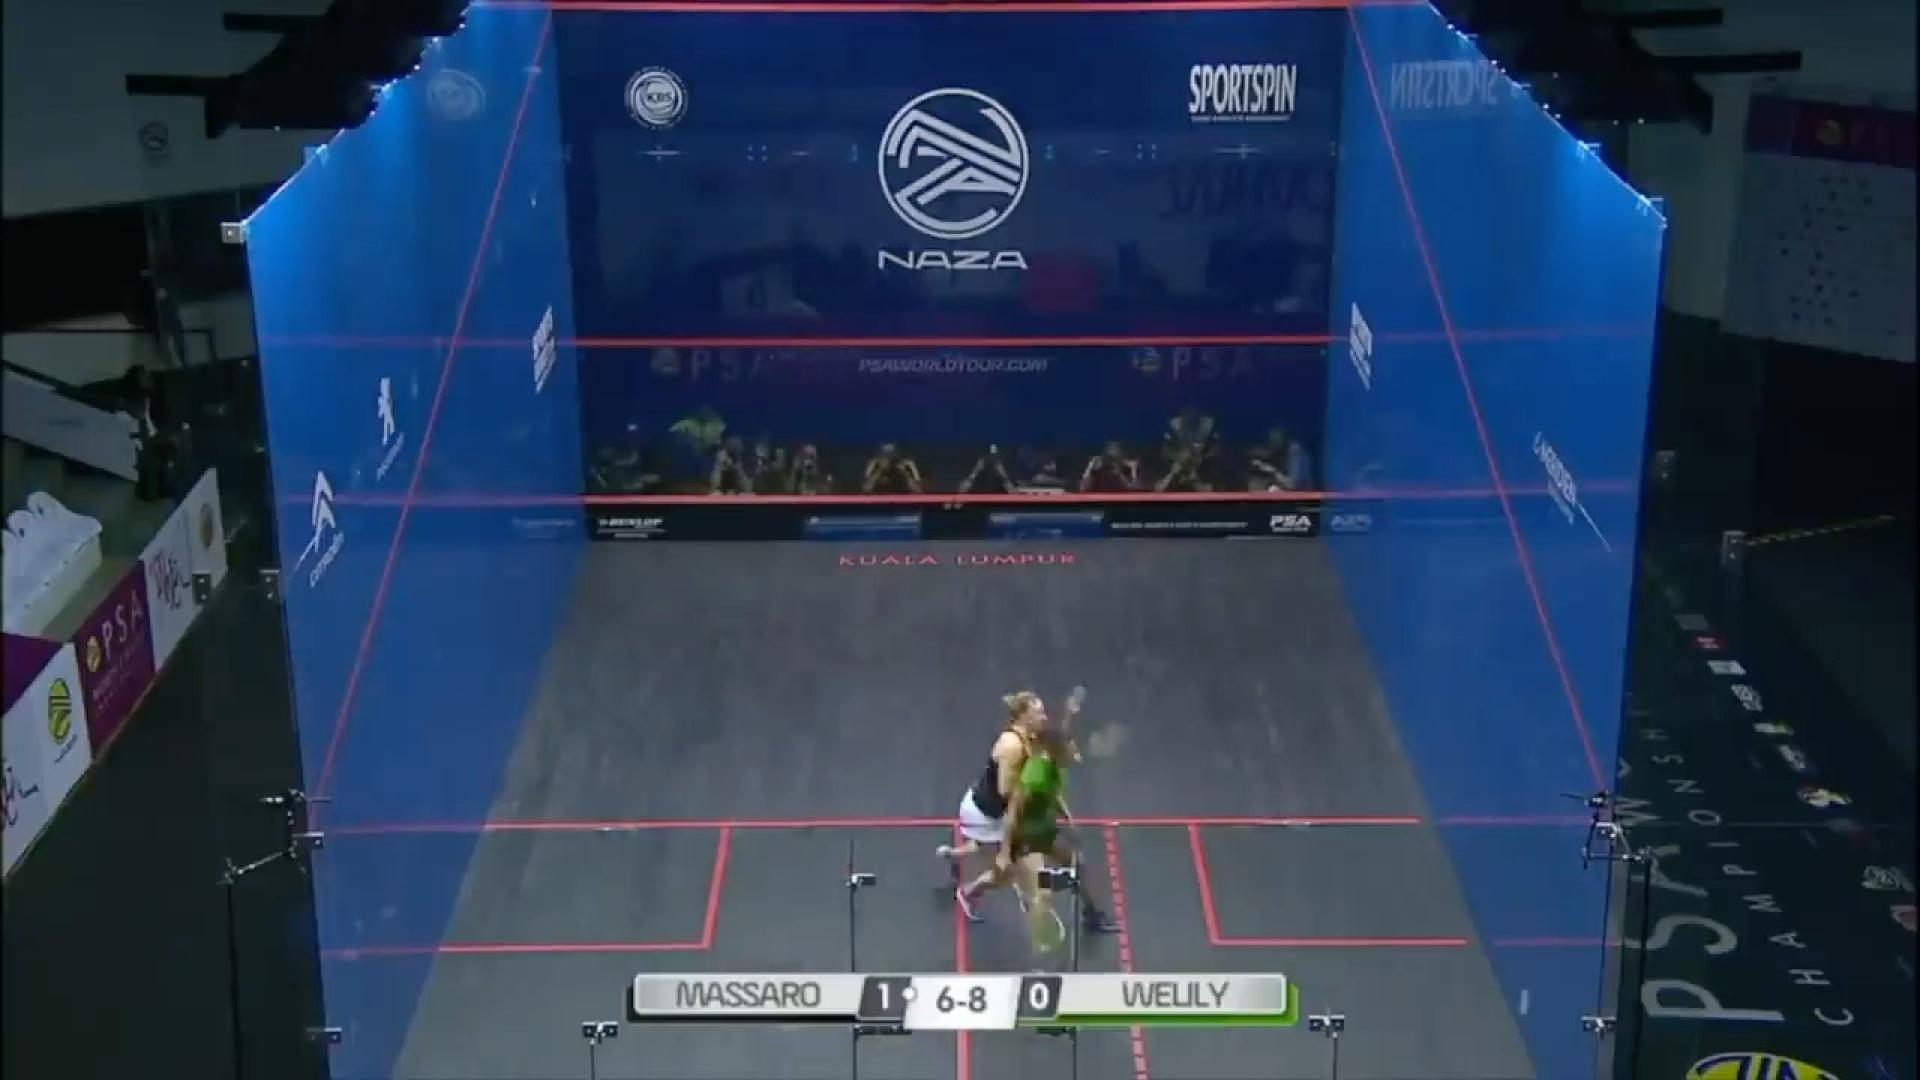Squash-Ball: (1495, 975, 1549, 1030)
